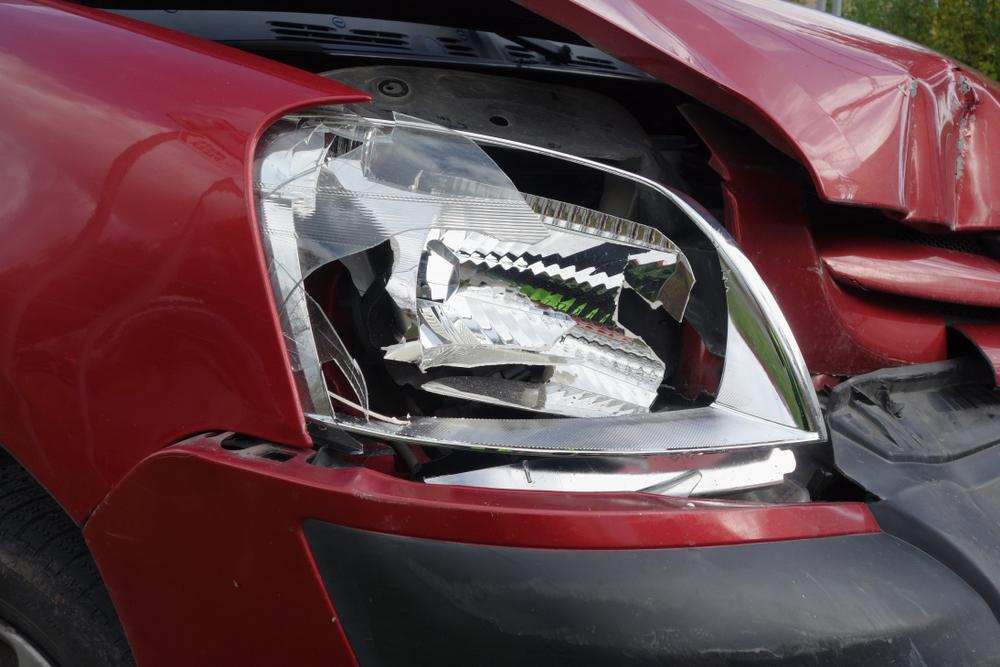dent: (896, 65, 1000, 226)
lamp broken: (256, 109, 840, 497)
